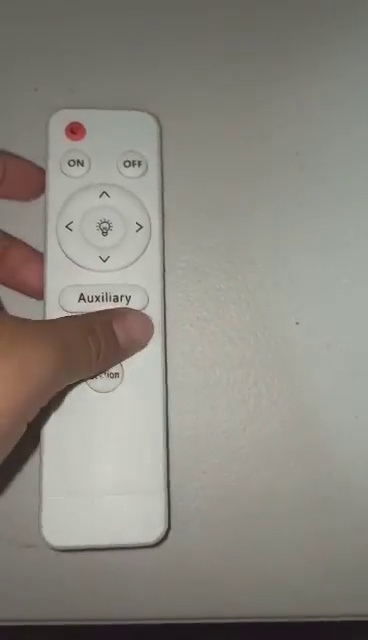remote: (37, 109, 175, 550)
